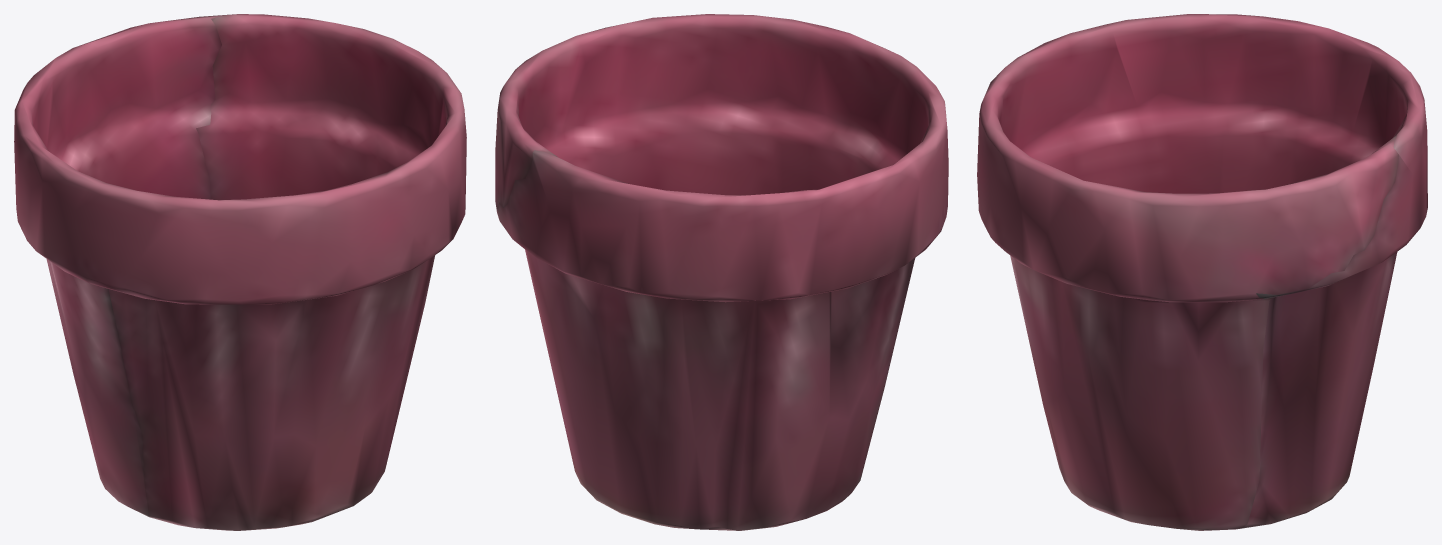
File: Cole_Hardware_Electric_Pot_Assortment_55-medium.glb
The picture shows the model from 3 angles, left to right: view 1: azimuth 30°, elevation 25°; view 2: azimuth 150°, elevation 25°; view 3: azimuth 270°, elevation 25°; orthographic projection.
Visible parts, largest first — view 1: Cole_Hardware_Electric_Pot_Assortment_55; view 2: Cole_Hardware_Electric_Pot_Assortment_55; view 3: Cole_Hardware_Electric_Pot_Assortment_55.
Boxes of the visible parts, box(x1,y1,x2,y2) form: Cole_Hardware_Electric_Pot_Assortment_55: box(14, 14, 466, 530); Cole_Hardware_Electric_Pot_Assortment_55: box(495, 14, 948, 530); Cole_Hardware_Electric_Pot_Assortment_55: box(977, 14, 1427, 530).
Bounding box in the file's own units: 0.1427 × 0.128 × 0.1402.
1 material, 1 textured.
